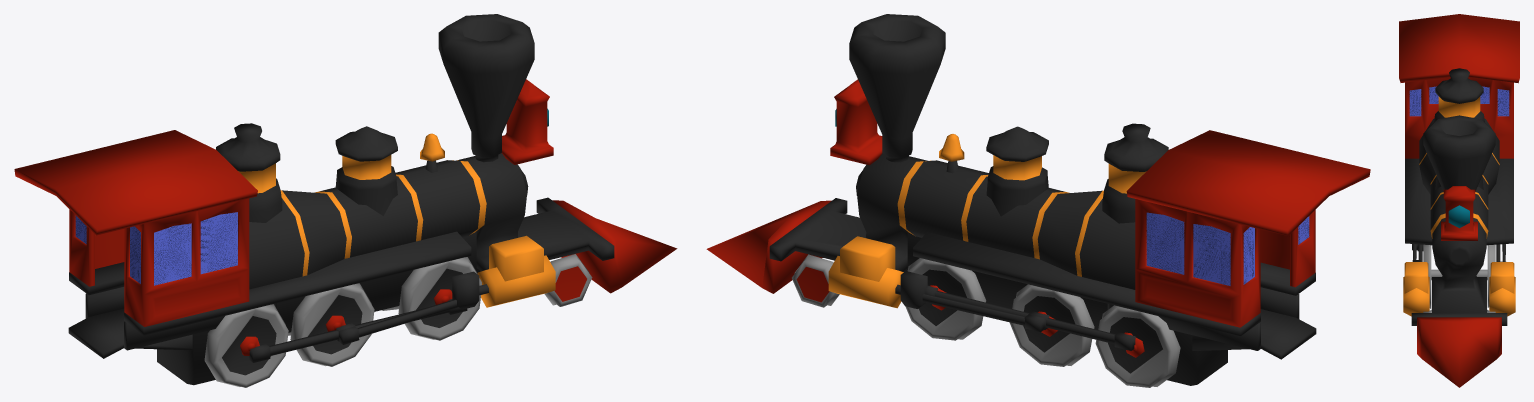
File: Western_Locomotive.fbx
The picture shows the model from 3 angles, left to right: view 1: azimuth 30°, elevation 25°; view 2: azimuth 150°, elevation 25°; view 3: azimuth 270°, elevation 25°; orthographic projection. The views are drawn at different scales.
Parts seen in each view (by area): view 1: locomotive-western-base; view 2: locomotive-western-base; view 3: locomotive-western-base.
Part boxes in pixels (left/top/right/bottom): locomotive-western-base: left=14, top=14, right=677, bottom=387; locomotive-western-base: left=706, top=14, right=1370, bottom=387; locomotive-western-base: left=1399, top=14, right=1519, bottom=387.
Size of the model in its own units: 1174 by 501 by 272.
1 material, 1 textured.
